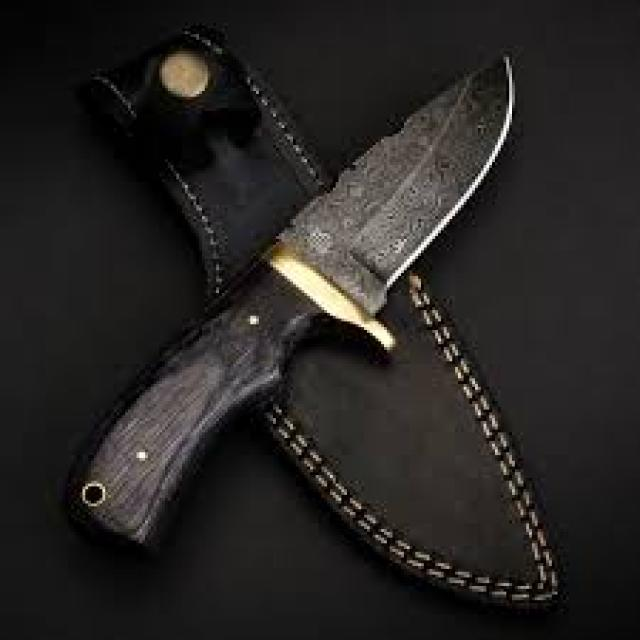knives: (270, 55, 518, 316)
